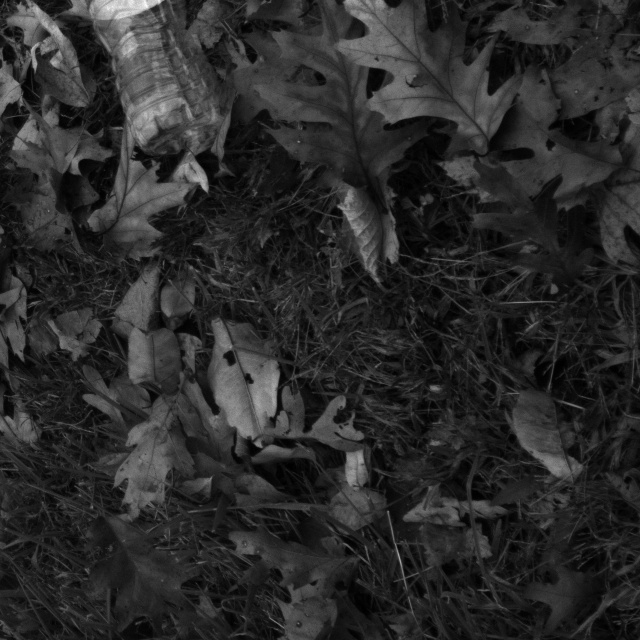bottle: (62, 0, 211, 155)
